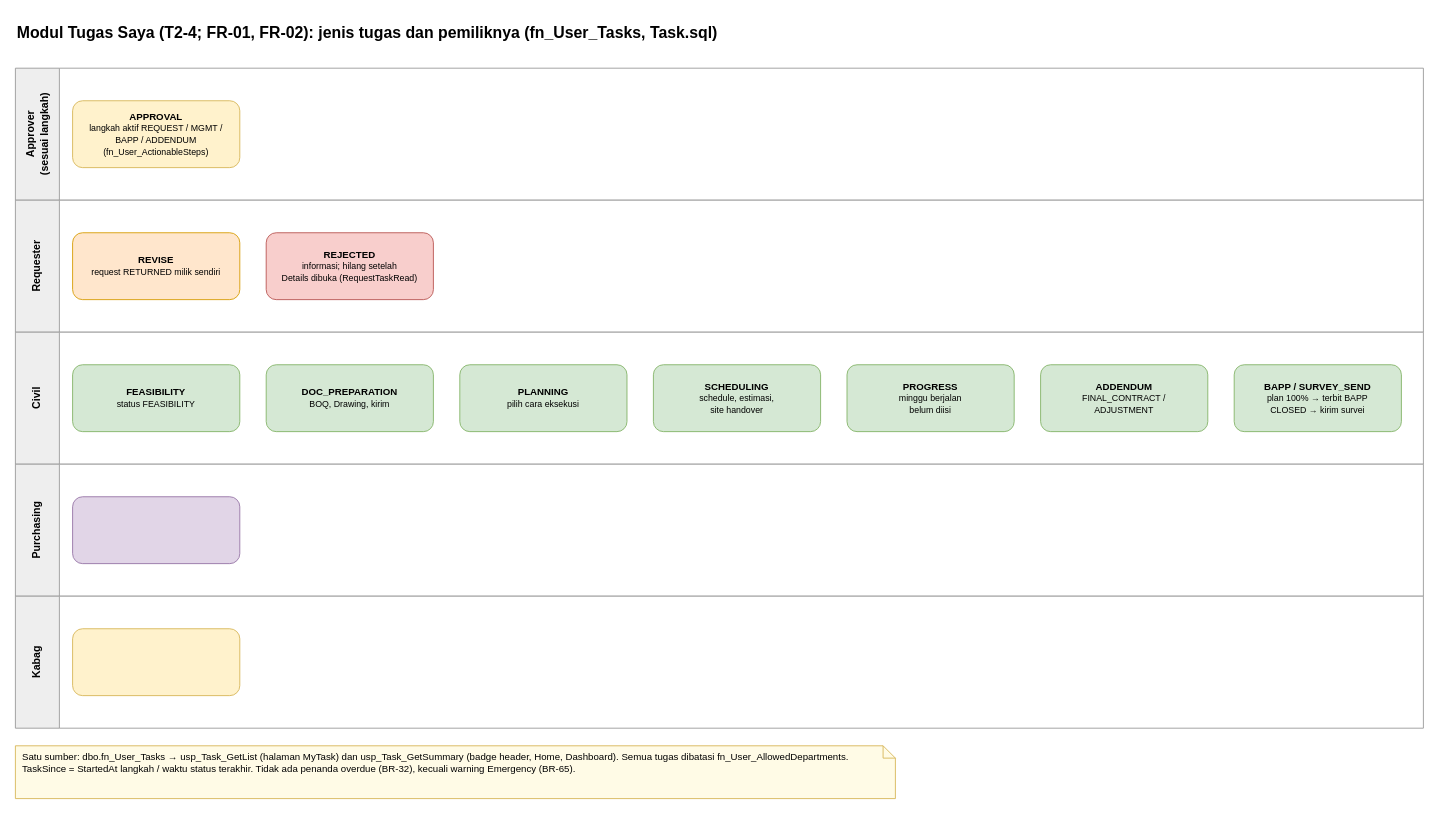
This 1439x814 diagram has some shape labels left out. The shapes that lost their labels are listed below. From the top down, each one's centre as x and y in pixels, then its label:
(156,530): PROCUREMENT TOR dikirim → input kontrak (outsource saja)
(156,662): SURVEY survei terkirim, ABRV + Company peminta (fn_User_CanFillSurvey)
